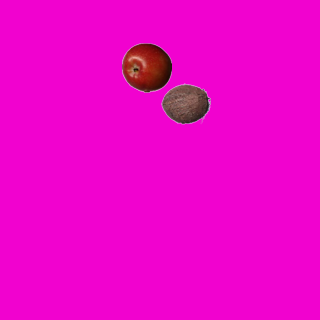Apple Braeburn: (121, 42, 171, 92)
Cocos: (160, 78, 210, 128)
